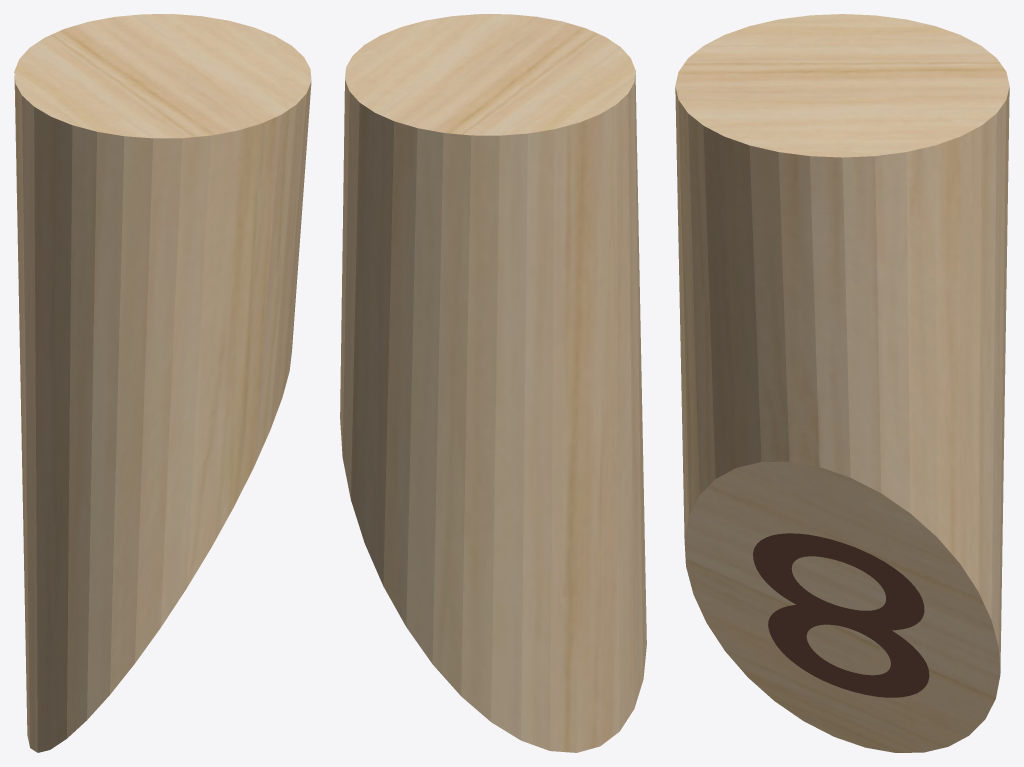
The model's file is pin8.glb.
3 renders of one model, left to right at view 1: azimuth 30°, elevation 25°; view 2: azimuth 150°, elevation 25°; view 3: azimuth 270°, elevation 25°, orthographic. The views are drawn at different scales.
Parts seen in each view (by area): view 1: 円柱.011; view 2: 円柱.011; view 3: 円柱.011.
Boxes of the visible parts, left/top/right/bottom form: 円柱.011: left=14, top=14, right=311, bottom=752; 円柱.011: left=340, top=14, right=646, bottom=752; 円柱.011: left=675, top=14, right=1009, bottom=752.
Size of the model in its own units: 1.16 by 2.79 by 1.16.
Materials: 2 (1 with a texture image).
